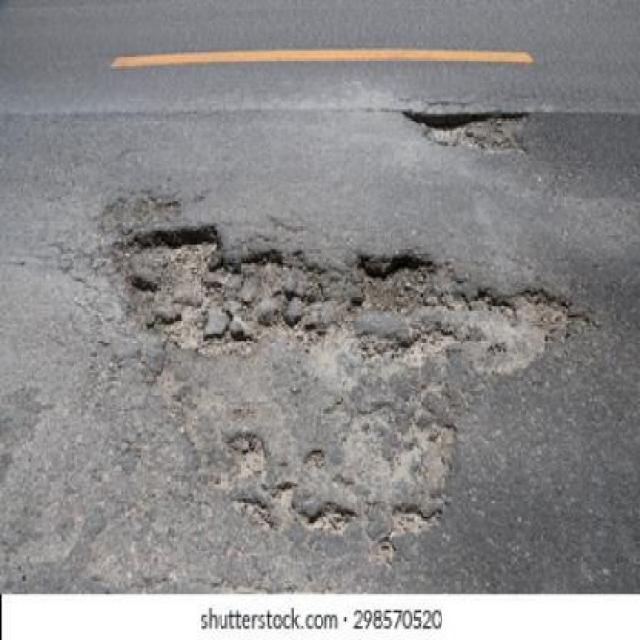Pothole: (121, 224, 327, 356), (349, 253, 434, 327), (402, 108, 533, 155)
